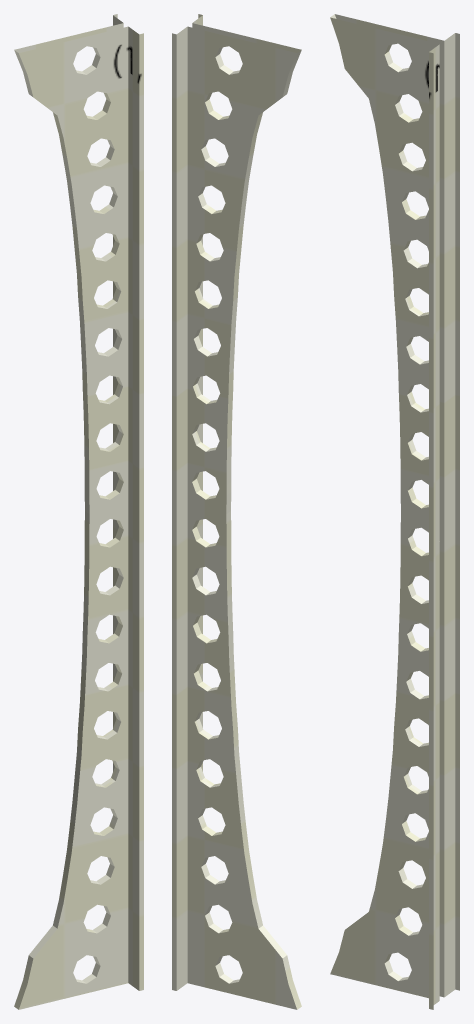
The model's file is wall_straight_struss.fbx.
3 views of the same model, side by side, from view 1: azimuth 30°, elevation 25°; view 2: azimuth 150°, elevation 25°; view 3: azimuth 330°, elevation 25° (orthographic).
Parts seen in each view (by area): view 1: wall_straight_struss; view 2: wall_straight_struss; view 3: wall_straight_struss.
Boxes of the visible parts, x1=… form: wall_straight_struss: x1=14, y1=14, x2=143, y2=1009; wall_straight_struss: x1=172, y1=14, x2=301, y2=1009; wall_straight_struss: x1=330, y1=14, x2=459, y2=1009.
Bounding box in the file's own units: 50 × 400 × 20.
